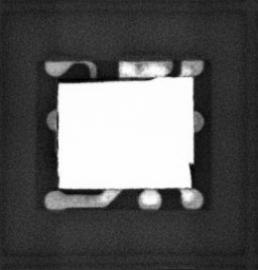DIE_BROKEN: (58, 75, 156, 83), (188, 160, 195, 184)
